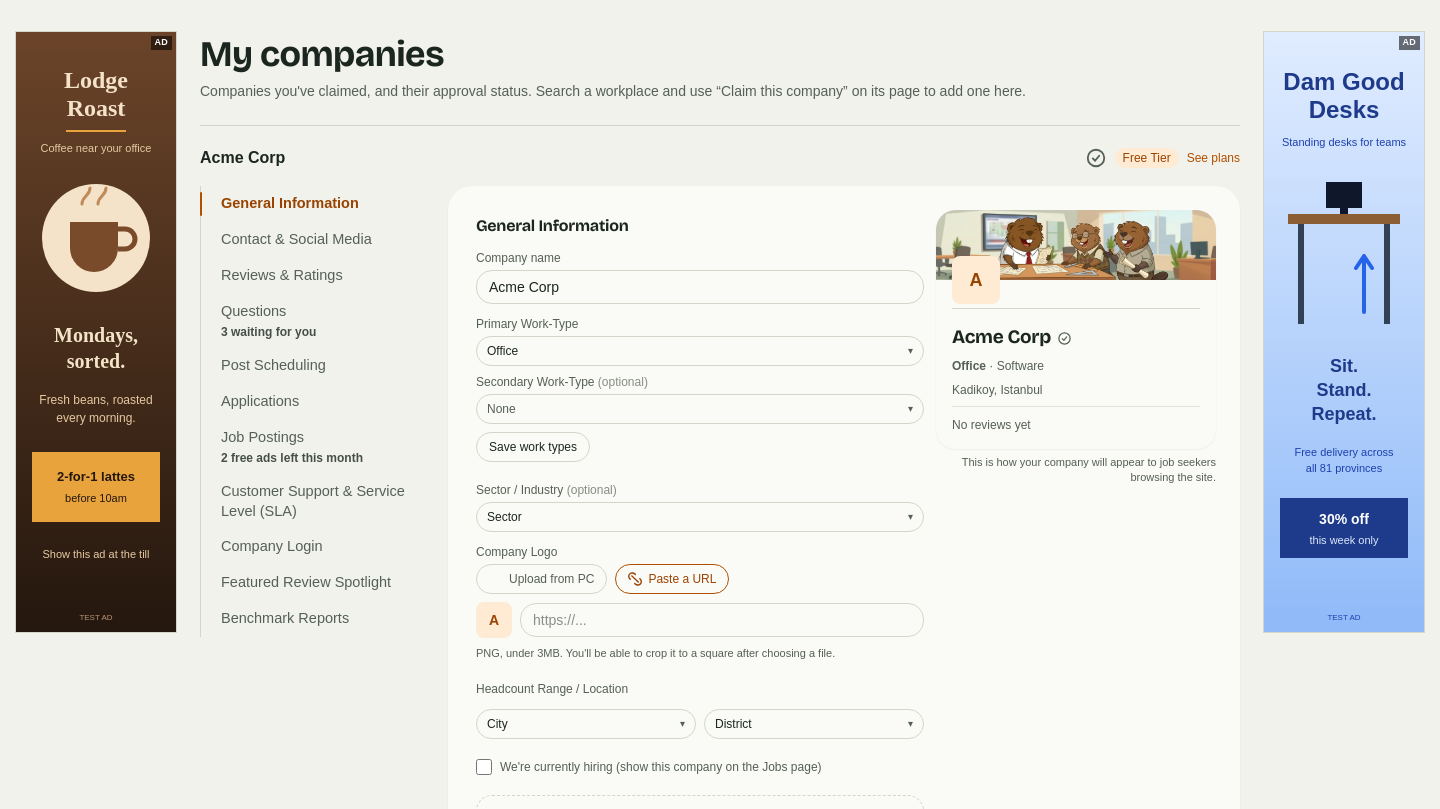
Scenario: Sector options narrow to the picked workplace type(s)
The image size is (1440, 809).
Expected: the button with aria-label "Primary work-type" shows "Office", [476,336,924,366]
Loaded workplaceTypes is ["OFFICE"] — "Construction" is manual-labour-only.
Click the button "Sector ▾" at (504, 517), box [476,502,924,532]
(page scrolled)
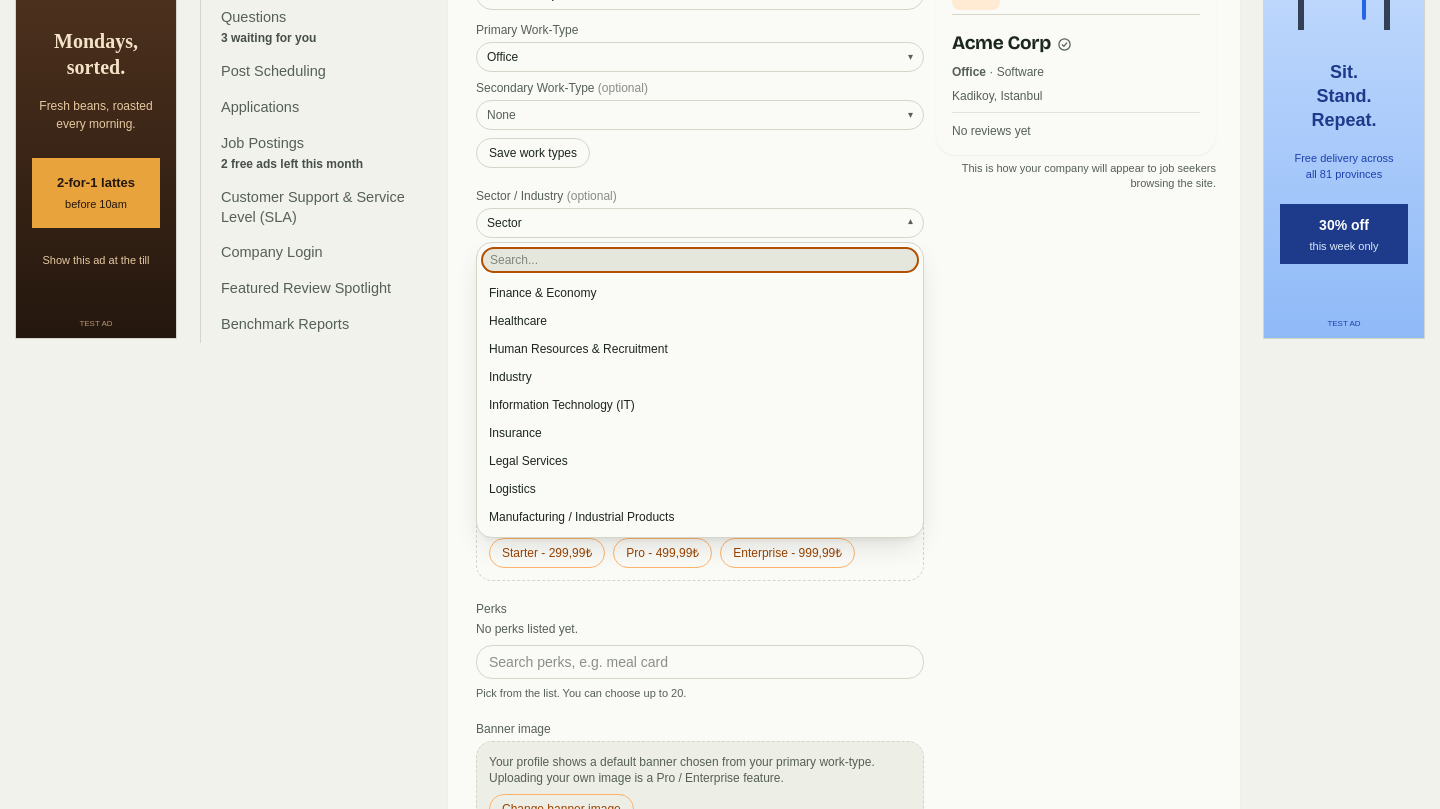
Now the button "Information Technology (IT)" is shown, box [481,391,919,419]
